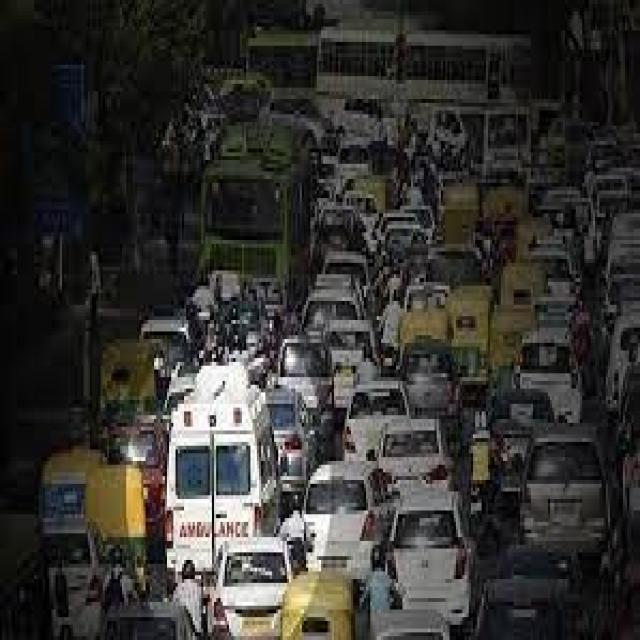ambulance: (170, 362, 270, 546)
